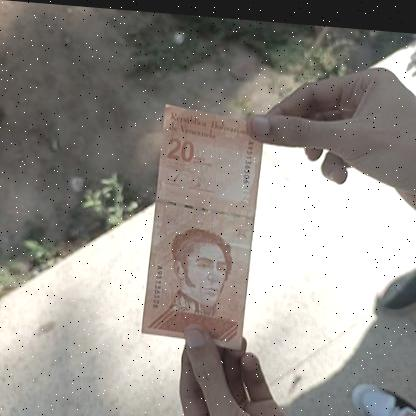twenty-front-vef: (141, 96, 264, 348)
